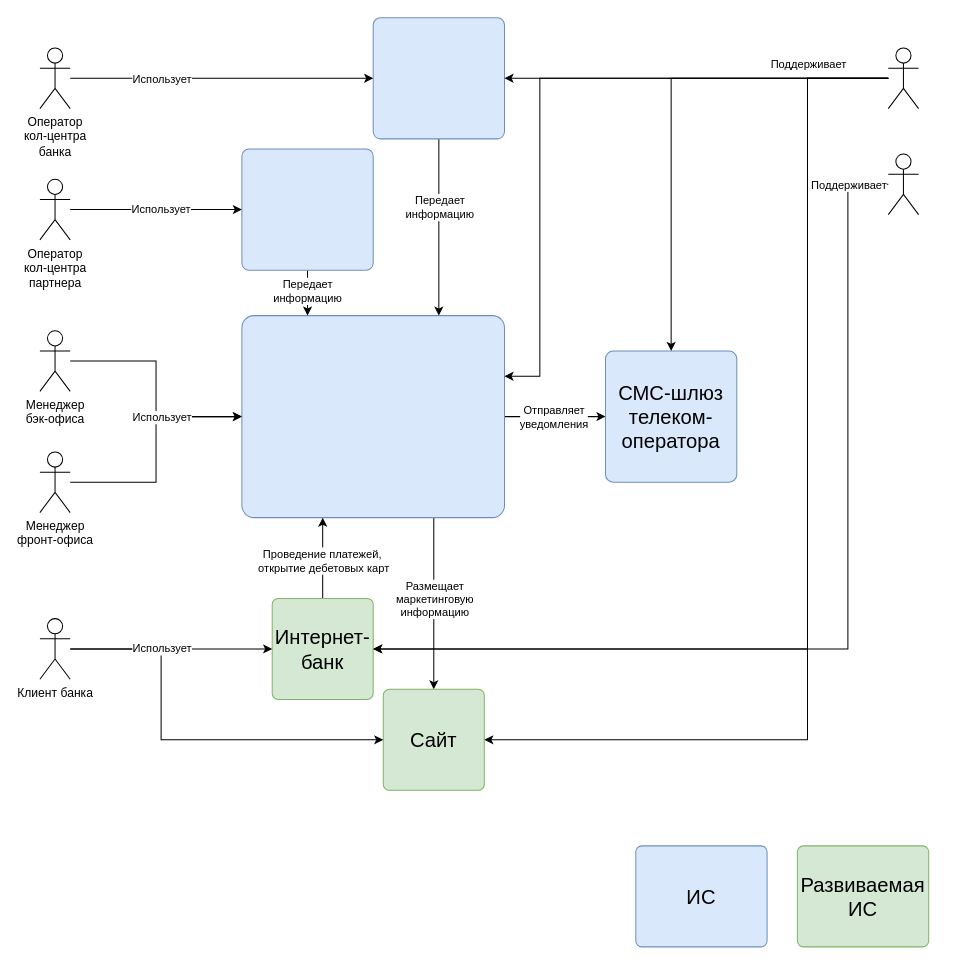
This 956x965 diagram has some shape labels left out. Here are the shapes that lost their labels. From the top down, the box of each, then its label:
(372, 17, 504, 139): Система кол-центра
(887, 47, 919, 109): IT сотрудник банка
(887, 153, 919, 215): IT сотрудник подрядчика
(241, 148, 373, 270): Система партнерского кол-центра
(241, 315, 504, 518): АБС
